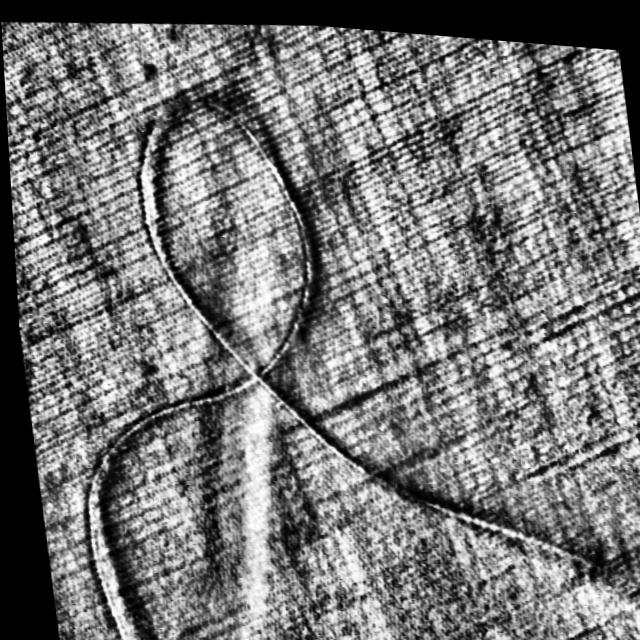Stitch: (22, 43, 640, 640)
